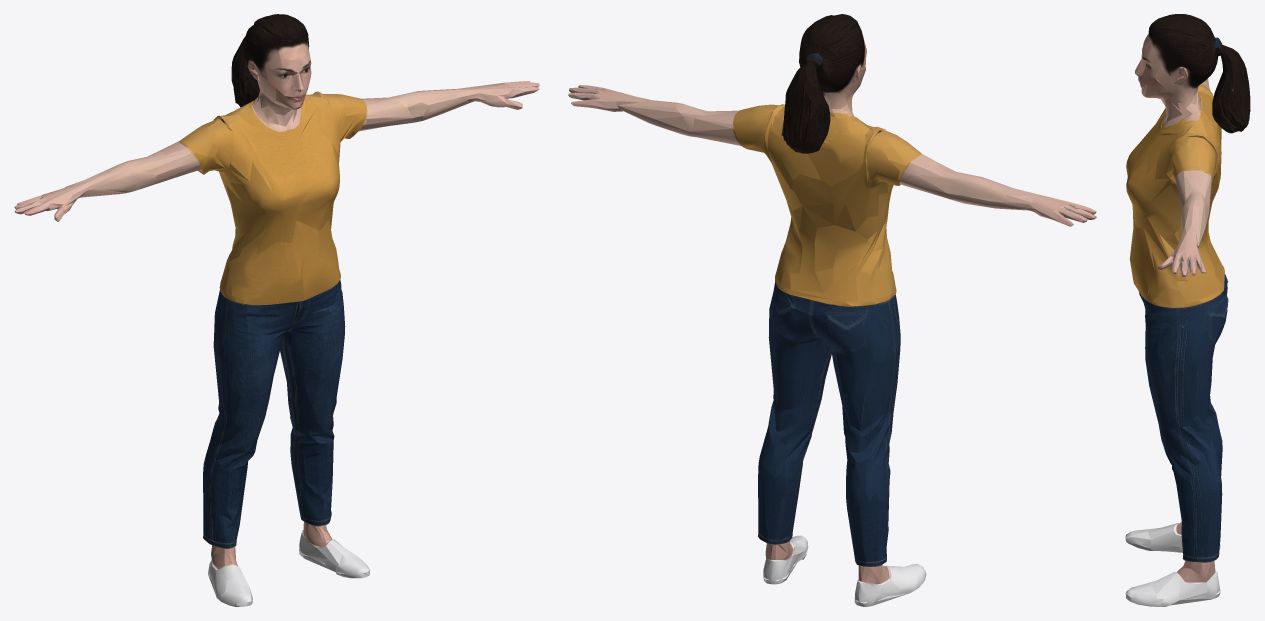
File: image3d.glb
3 views of the same model, side by side, from view 1: azimuth 30°, elevation 25°; view 2: azimuth 150°, elevation 25°; view 3: azimuth 270°, elevation 25° (orthographic).
Bounding box in the file's own units: 1.86 × 1.9 × 0.3876.
Materials: 1 (1 with a texture image).
